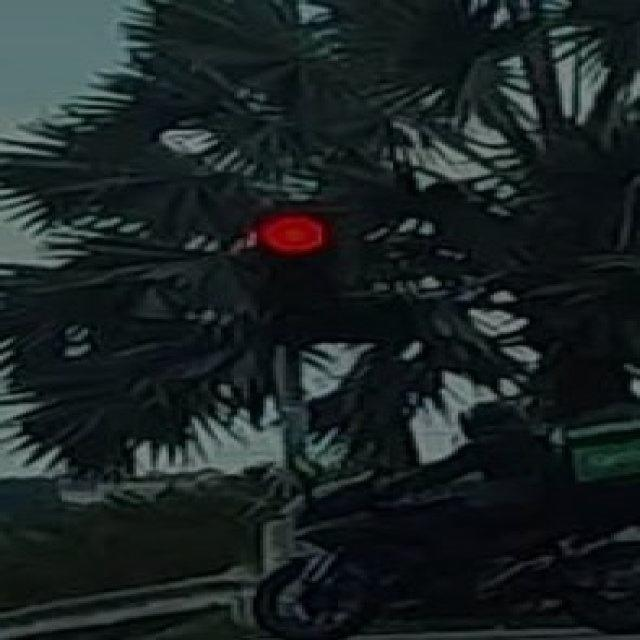Red: (260, 210, 332, 338)
